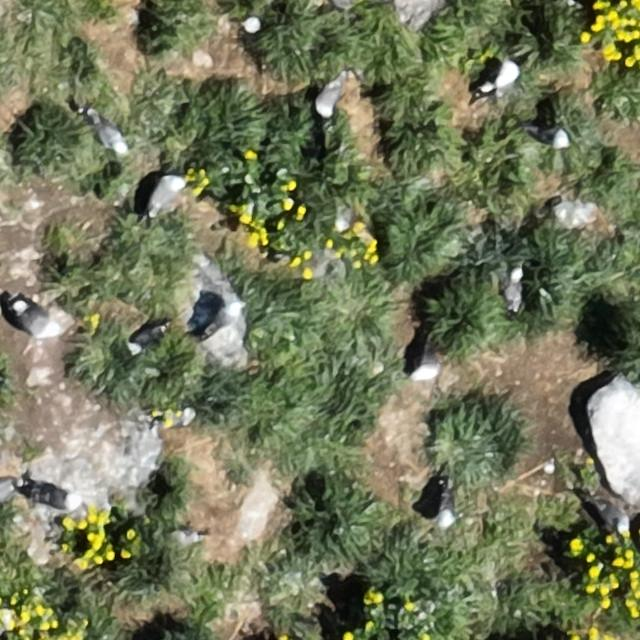umineko: (8, 296, 64, 339), (199, 301, 251, 339), (150, 177, 182, 213), (92, 118, 125, 152), (415, 345, 444, 383), (594, 500, 629, 530), (317, 78, 344, 116), (490, 61, 520, 91), (37, 490, 78, 511), (530, 126, 570, 146), (129, 326, 160, 351), (505, 271, 523, 310), (438, 492, 456, 528), (175, 531, 202, 546), (0, 480, 15, 502)
